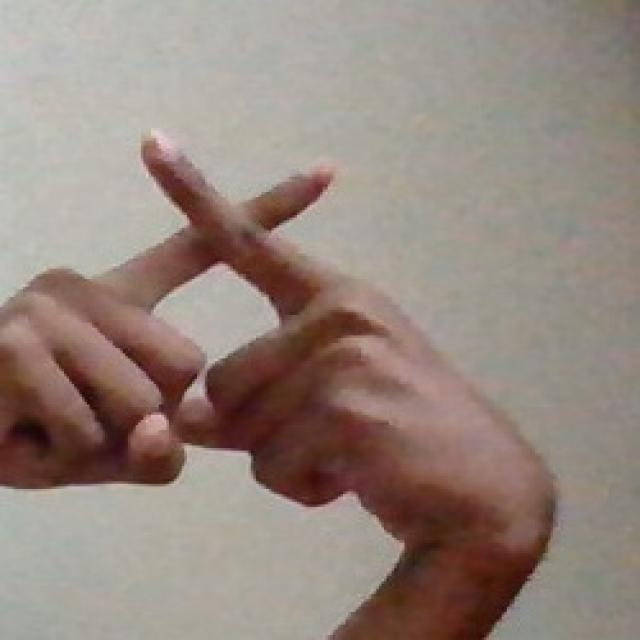Alphabet-X: (0, 110, 569, 640)
